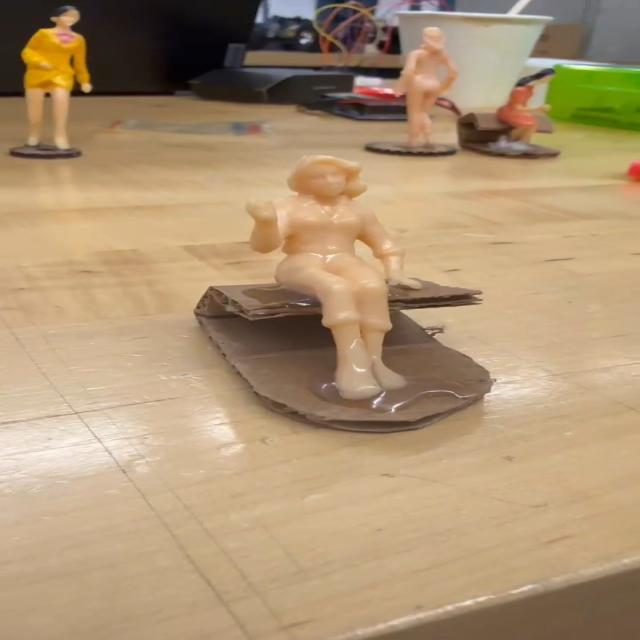Unauthorized: (242, 153, 422, 411)
